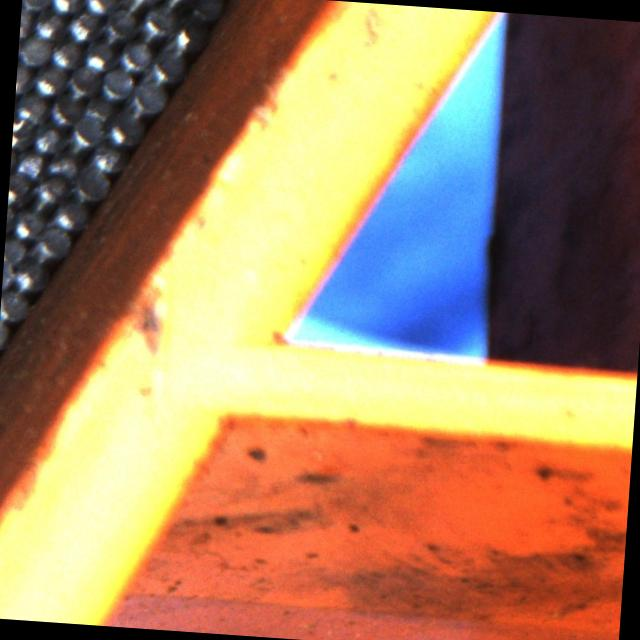tool: (117, 38, 152, 74), (99, 8, 134, 44), (68, 114, 104, 149), (140, 5, 175, 40), (49, 34, 83, 70), (100, 64, 134, 100), (46, 92, 82, 126), (82, 92, 116, 128), (150, 42, 184, 78), (81, 38, 116, 72), (32, 61, 66, 96), (132, 78, 167, 112), (72, 166, 106, 201), (53, 196, 88, 230), (30, 7, 66, 40), (32, 172, 66, 206), (66, 63, 100, 97), (65, 8, 99, 42), (14, 91, 48, 125), (31, 120, 65, 154), (10, 259, 44, 293), (46, 146, 82, 178), (34, 224, 68, 257), (14, 148, 47, 181), (18, 34, 50, 68), (90, 140, 123, 172), (12, 206, 44, 239), (165, 23, 198, 55), (112, 97, 144, 128), (104, 114, 135, 145), (0, 287, 28, 321), (3, 234, 26, 267), (8, 172, 30, 206), (189, 0, 222, 22), (12, 116, 32, 149), (15, 62, 34, 95), (84, 0, 118, 15), (116, 0, 149, 13), (49, 0, 84, 12), (160, 0, 192, 11), (21, 0, 51, 11)
